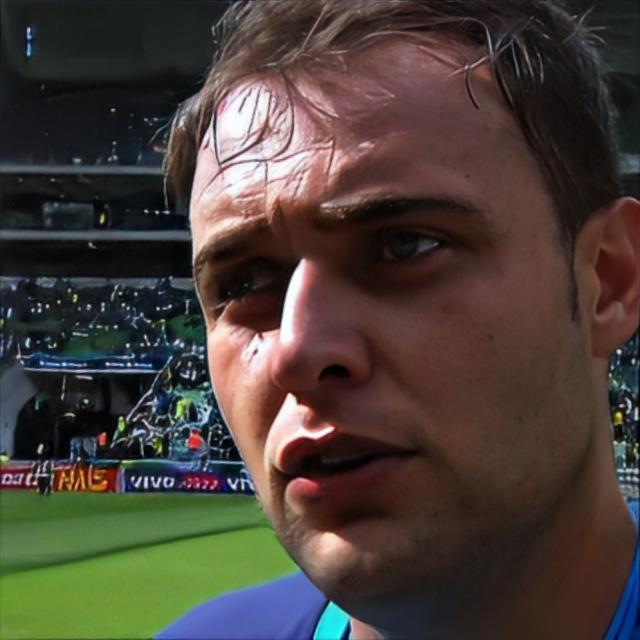disgust: (185, 30, 578, 602)
